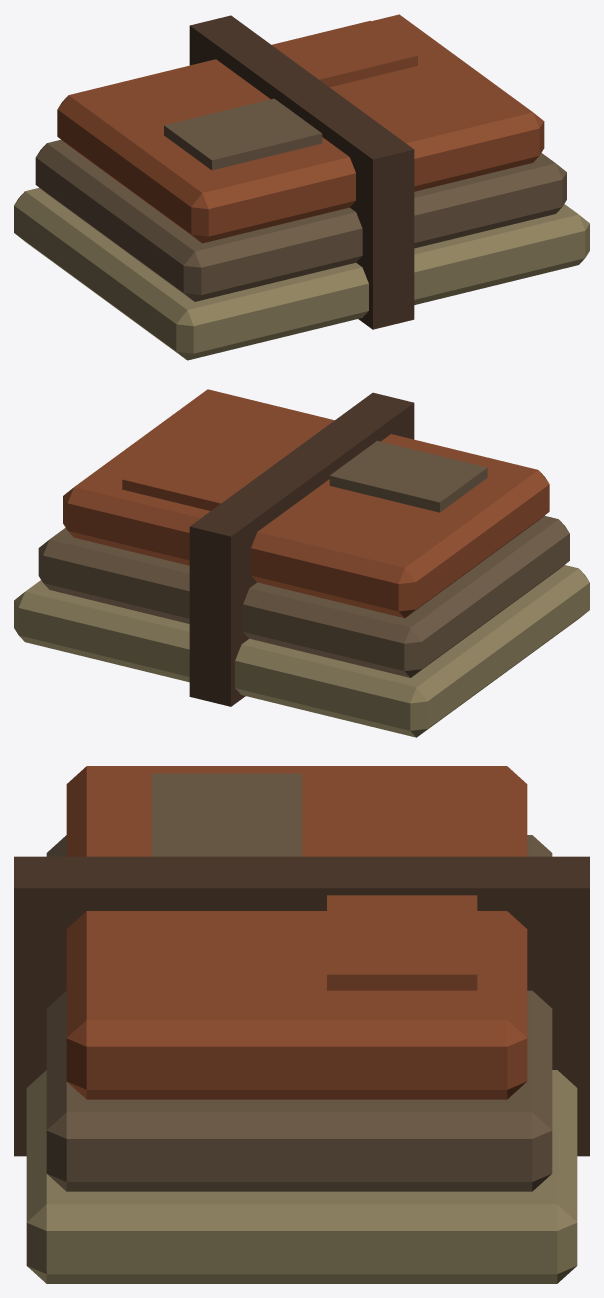
The model's file is mod_cloth_camo_wasteland.glb.
3 views of the same model, one above another, from view 1: azimuth 30°, elevation 25°; view 2: azimuth 150°, elevation 25°; view 3: azimuth 270°, elevation 25° (orthographic). The views are drawn at different scales.
Visible parts, largest first — view 1: camo_wasteland; view 2: camo_wasteland; view 3: camo_wasteland.
Boxes of the visible parts, x1=… form: camo_wasteland: x1=14, y1=14, x2=589, y2=360; camo_wasteland: x1=14, y1=389, x2=589, y2=737; camo_wasteland: x1=14, y1=766, x2=589, y2=1283.
Size of the model in its own units: 0.3 by 0.118 by 0.23.
